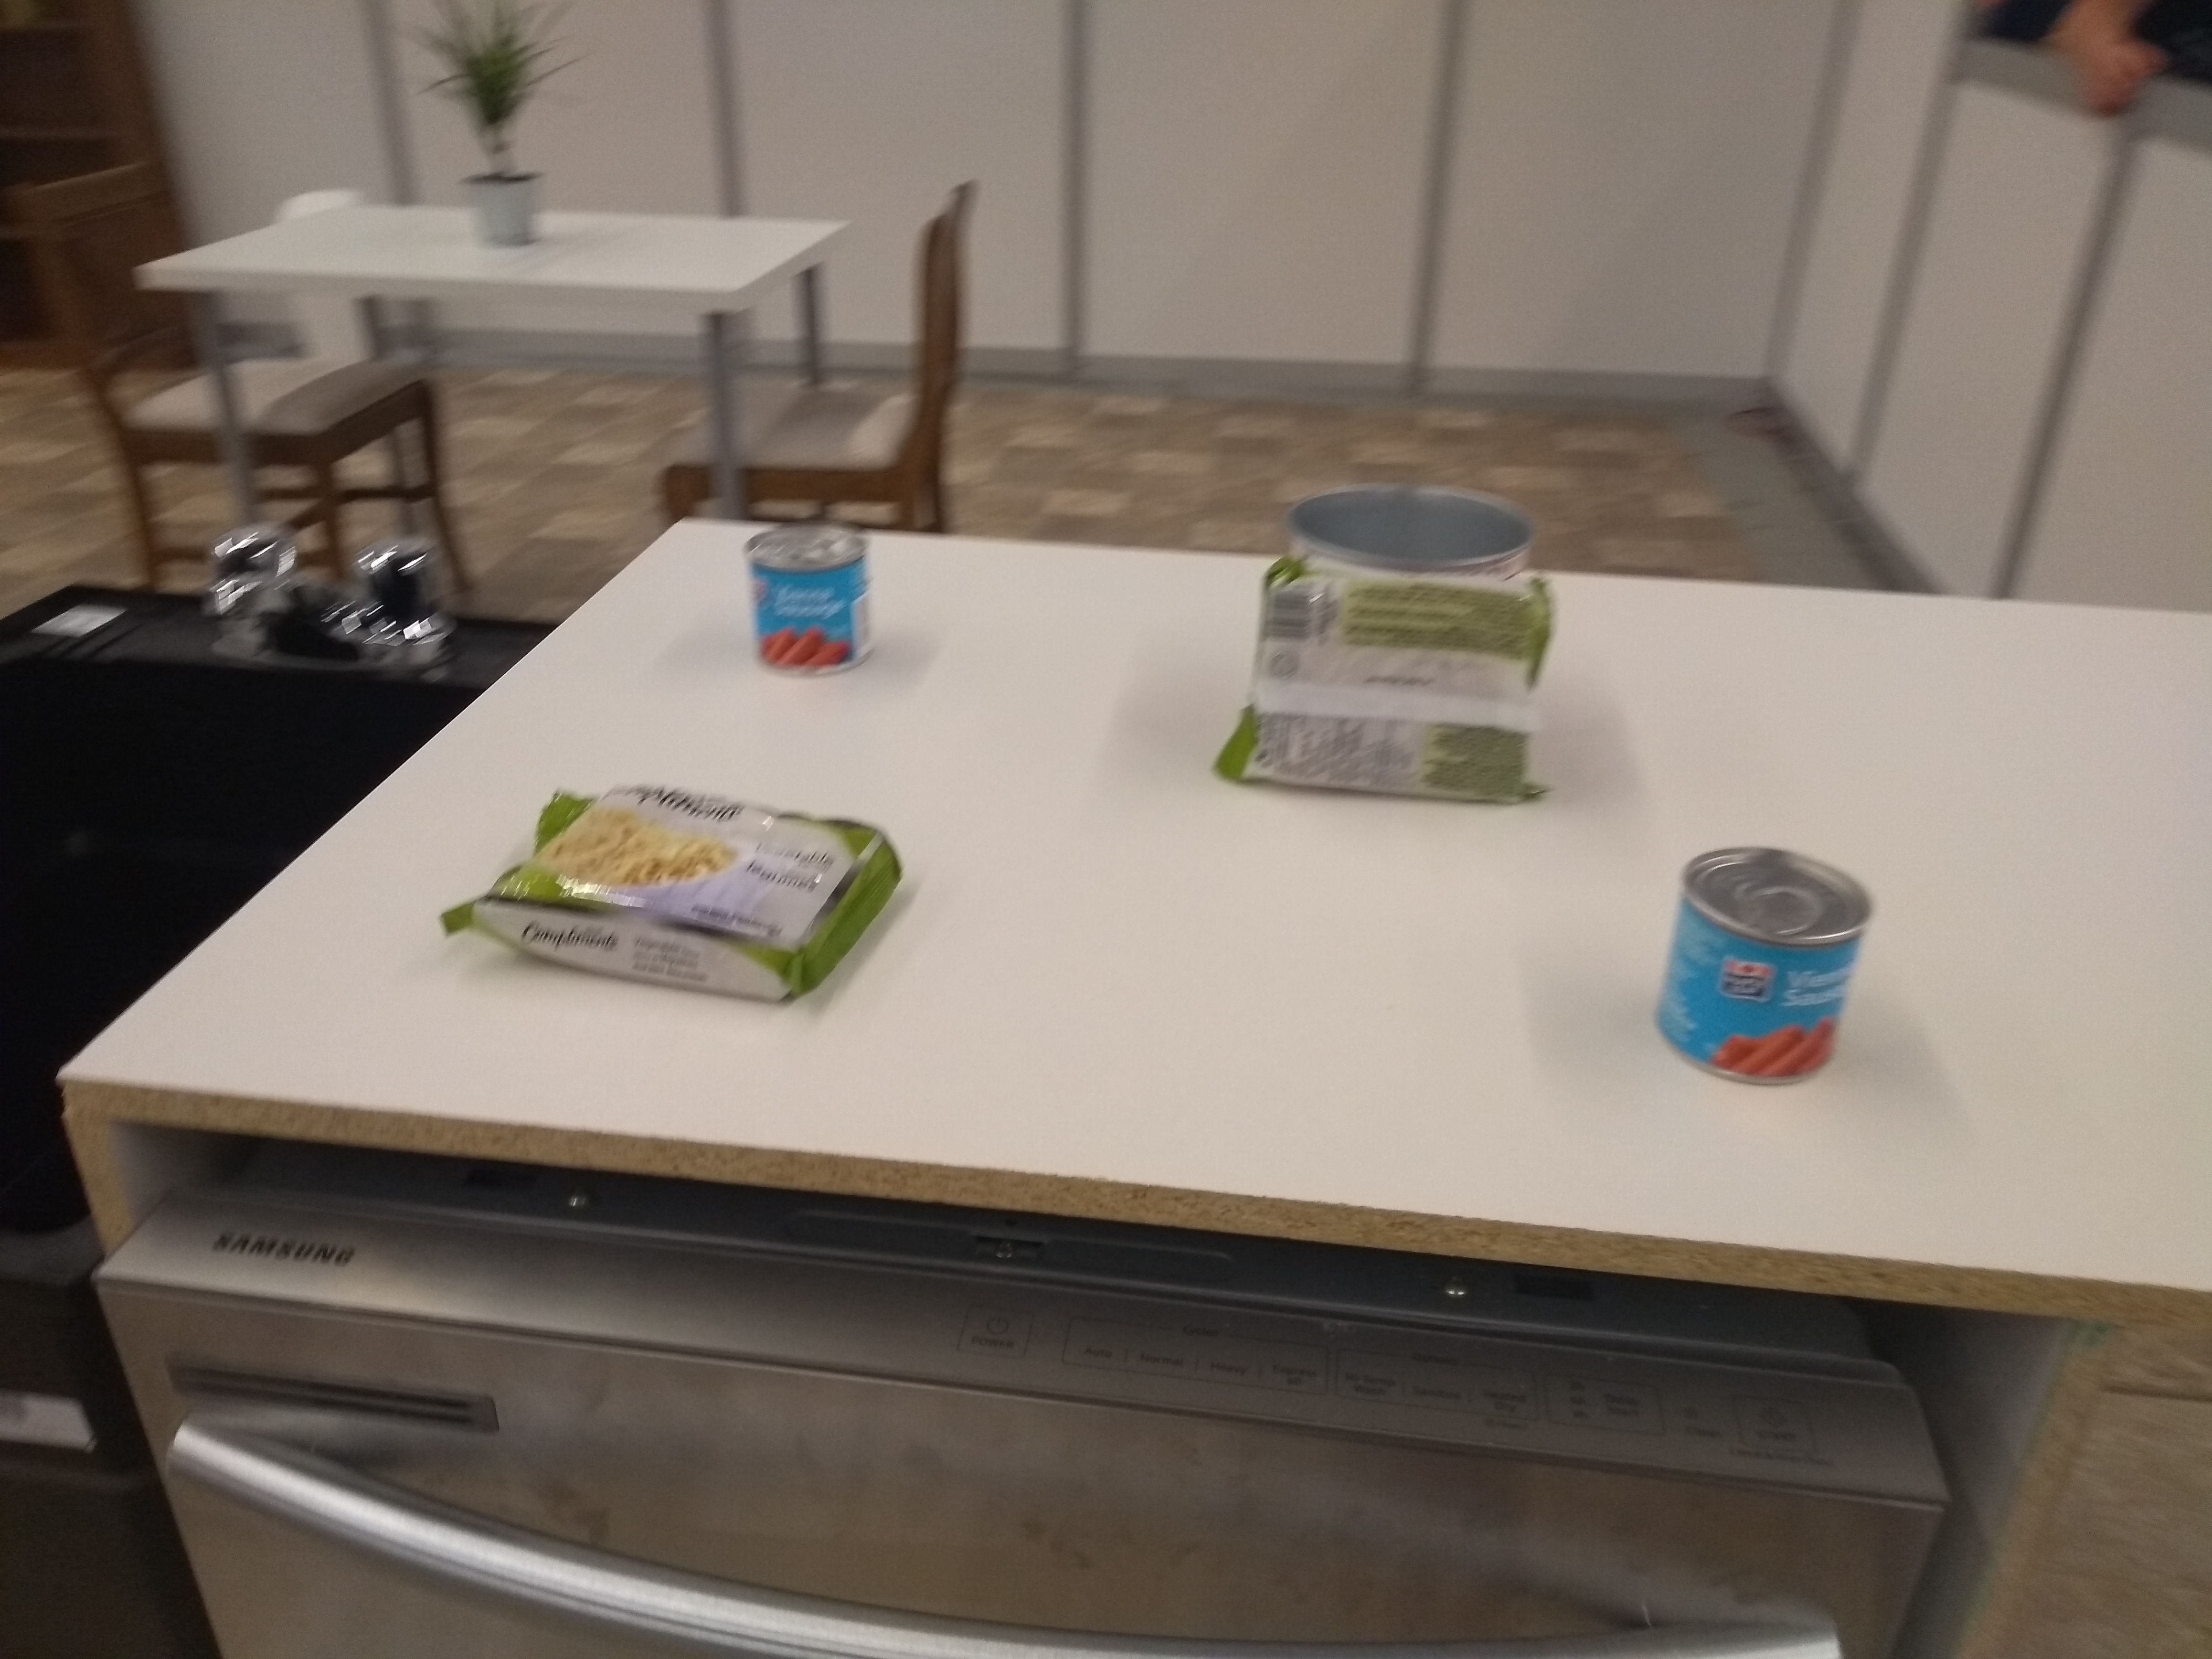noodles: (434, 769, 911, 1016), (1202, 538, 1575, 817)
sausages: (1646, 833, 1881, 1100), (740, 511, 890, 685)
